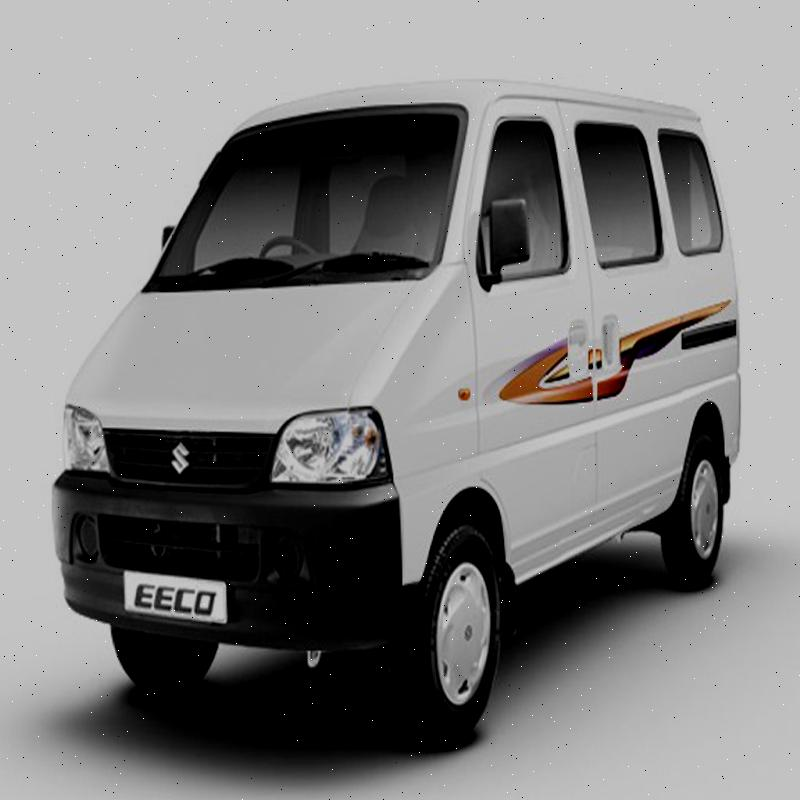car: (60, 76, 731, 784)
